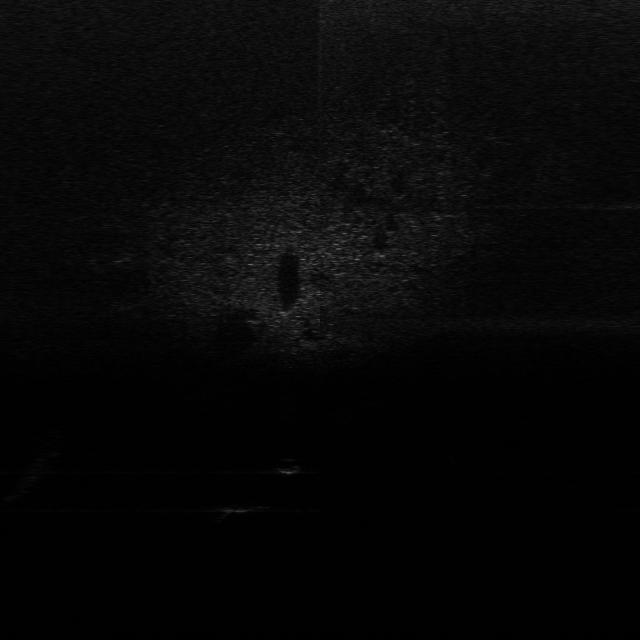ball: (274, 456, 306, 477)
square cage: (217, 499, 266, 516)
